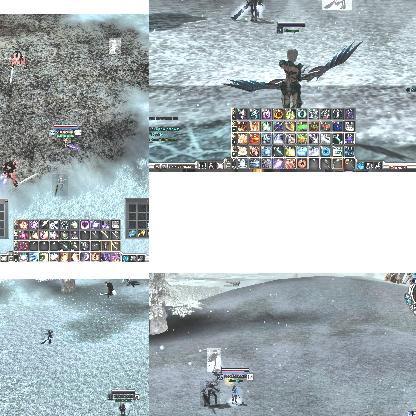caliana: (230, 0, 266, 23), (200, 381, 220, 407), (52, 174, 68, 196), (207, 348, 221, 372), (322, 0, 351, 9), (109, 38, 121, 54), (41, 329, 53, 343)
